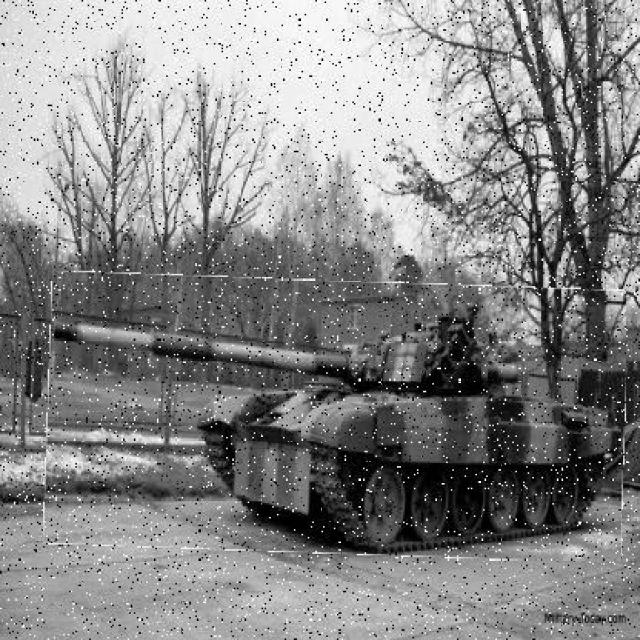Tank: (47, 276, 627, 558)
